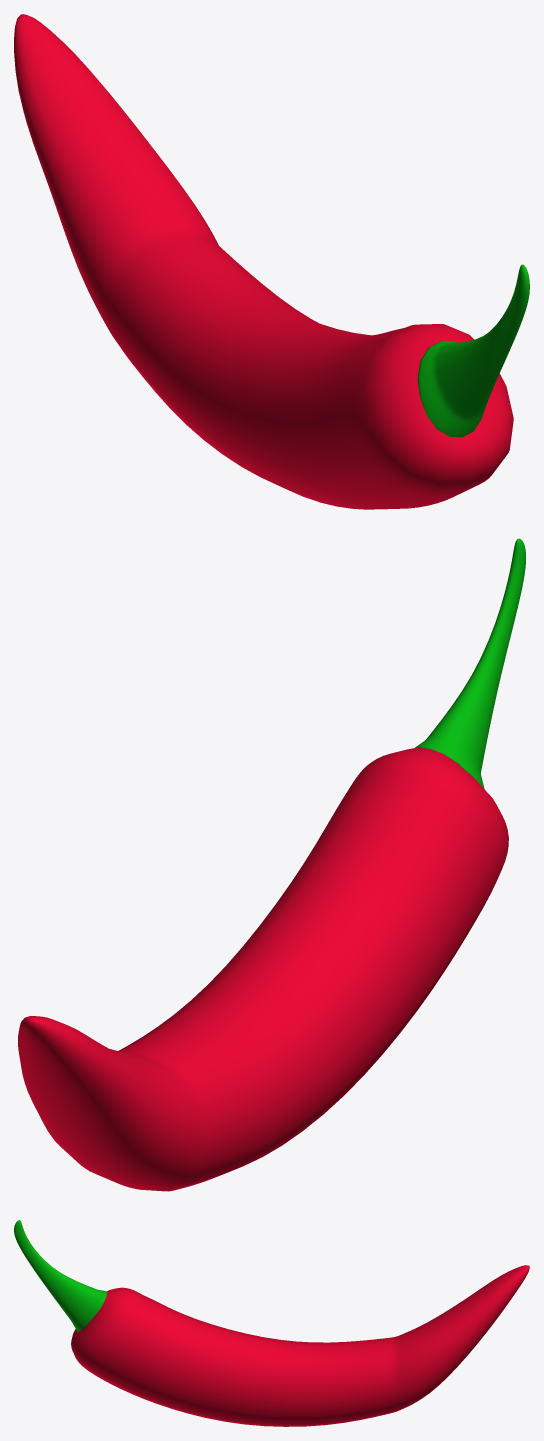
File: Chili.fbx
3 views of the same model, one above another, from view 1: azimuth 30°, elevation 25°; view 2: azimuth 150°, elevation 25°; view 3: azimuth 270°, elevation 25° (orthographic). The views are drawn at different scales.
Parts seen in each view (by area): view 1: Cube; view 2: Cube; view 3: Cube.
Boxes of the visible parts, x1=… form: Cube: x1=14, y1=14, x2=529, y2=509; Cube: x1=18, y1=538, x2=525, y2=1191; Cube: x1=14, y1=1220, x2=529, y2=1426.
Bounding box in the file's own units: 189 × 499 × 1151.
